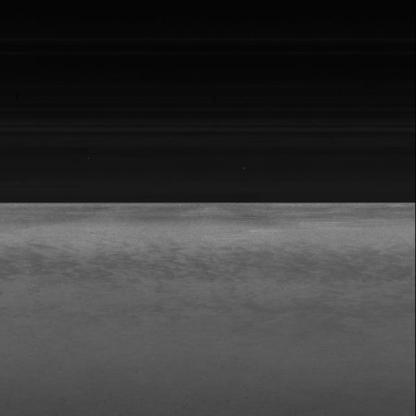silk_spot: (37, 233, 331, 292)
